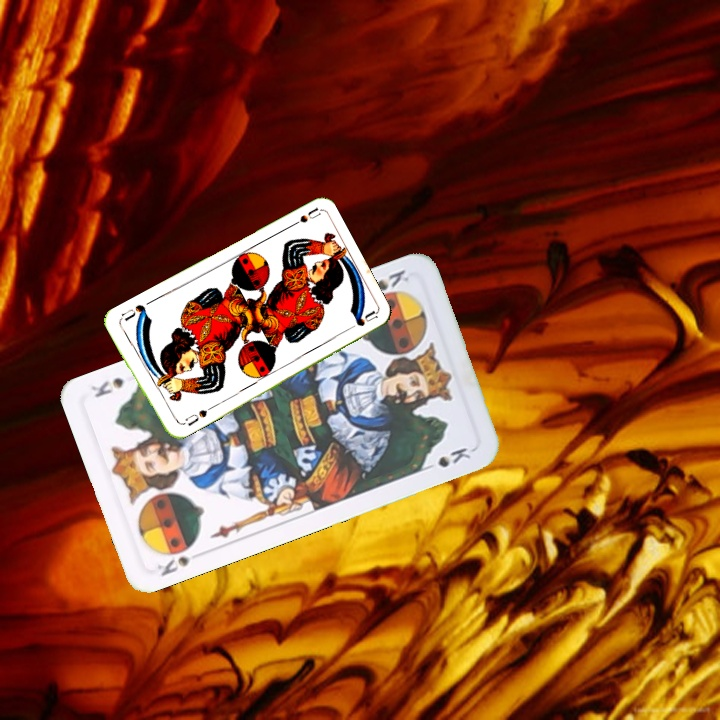SK: (152, 547, 207, 579), (372, 265, 412, 294)
SU: (283, 204, 322, 231), (182, 406, 210, 429)
